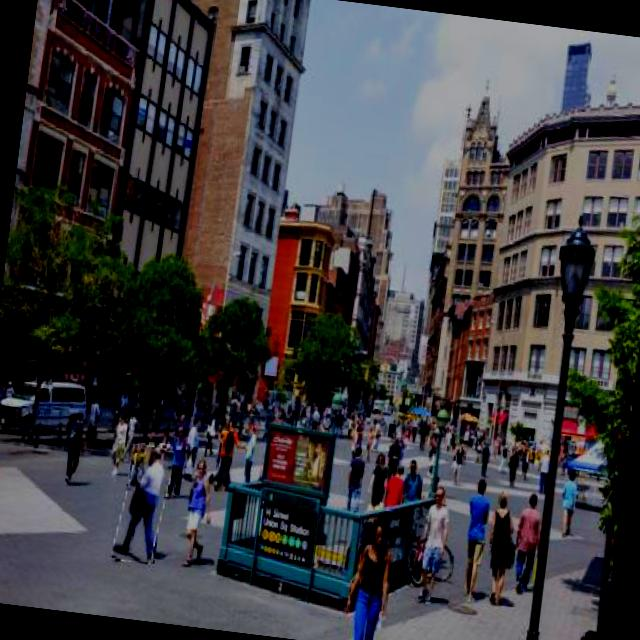Person: (113, 443, 173, 566)
